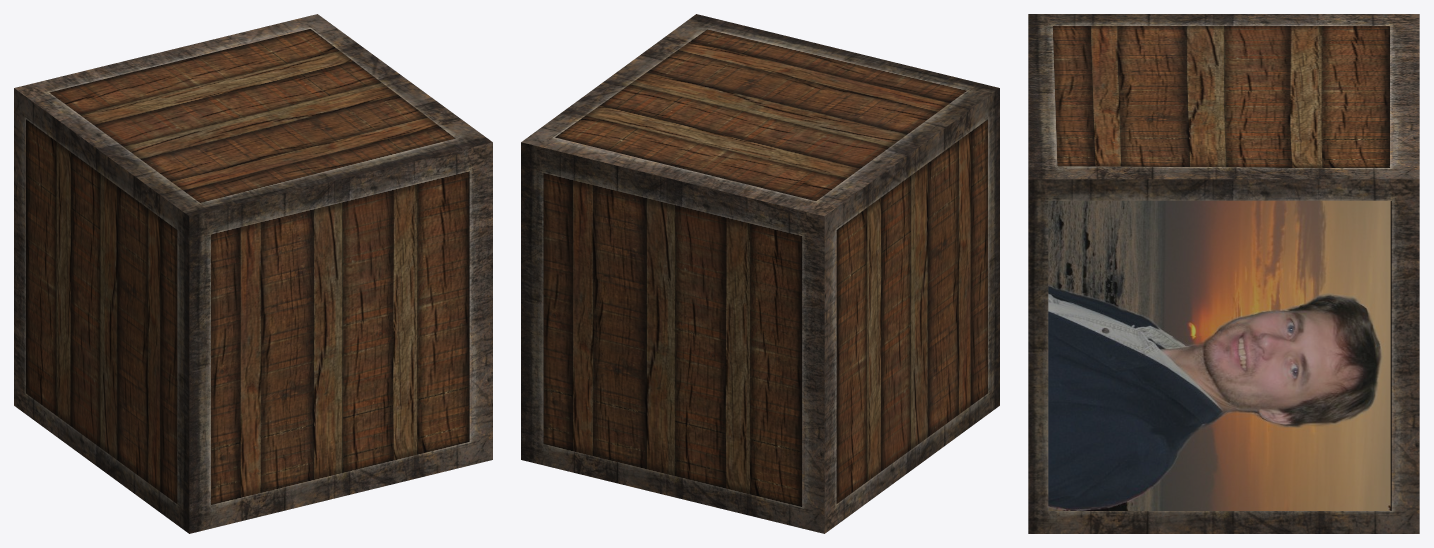
File: texture_cube_4.dae
The picture shows the model from 3 angles, left to right: view 1: azimuth 30°, elevation 25°; view 2: azimuth 150°, elevation 25°; view 3: azimuth 270°, elevation 25°; orthographic projection. The views are drawn at different scales.
Parts seen in each view (by area): view 1: Cube; view 2: Cube; view 3: Cube.
Boxes of the visible parts, bbox=[...] form: Cube: bbox=[14, 14, 492, 533]; Cube: bbox=[521, 14, 999, 533]; Cube: bbox=[1028, 14, 1419, 533].
Bounding box in the file's own units: 2 × 2 × 2.
Materials: 4 (4 with a texture image).
